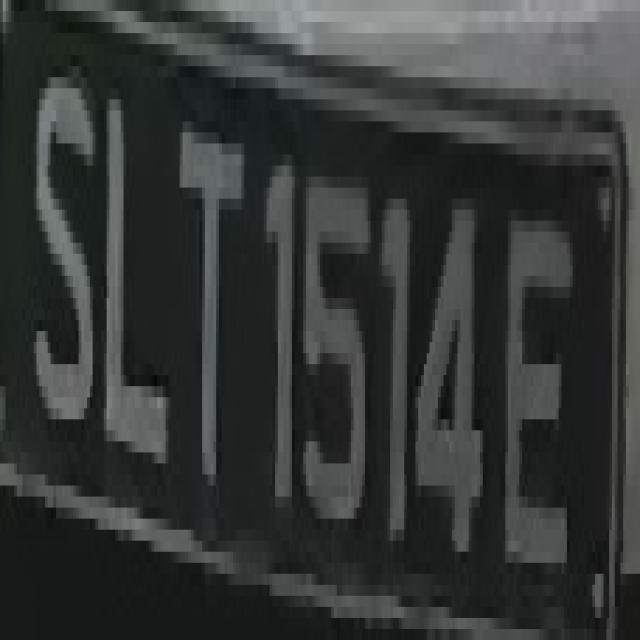1: (255, 99, 306, 552), (376, 187, 418, 596)
4: (412, 210, 486, 607)
5: (289, 110, 376, 563)
E: (497, 154, 578, 574)
L: (104, 77, 180, 541)
S: (28, 44, 93, 475)
T: (162, 66, 252, 508)
